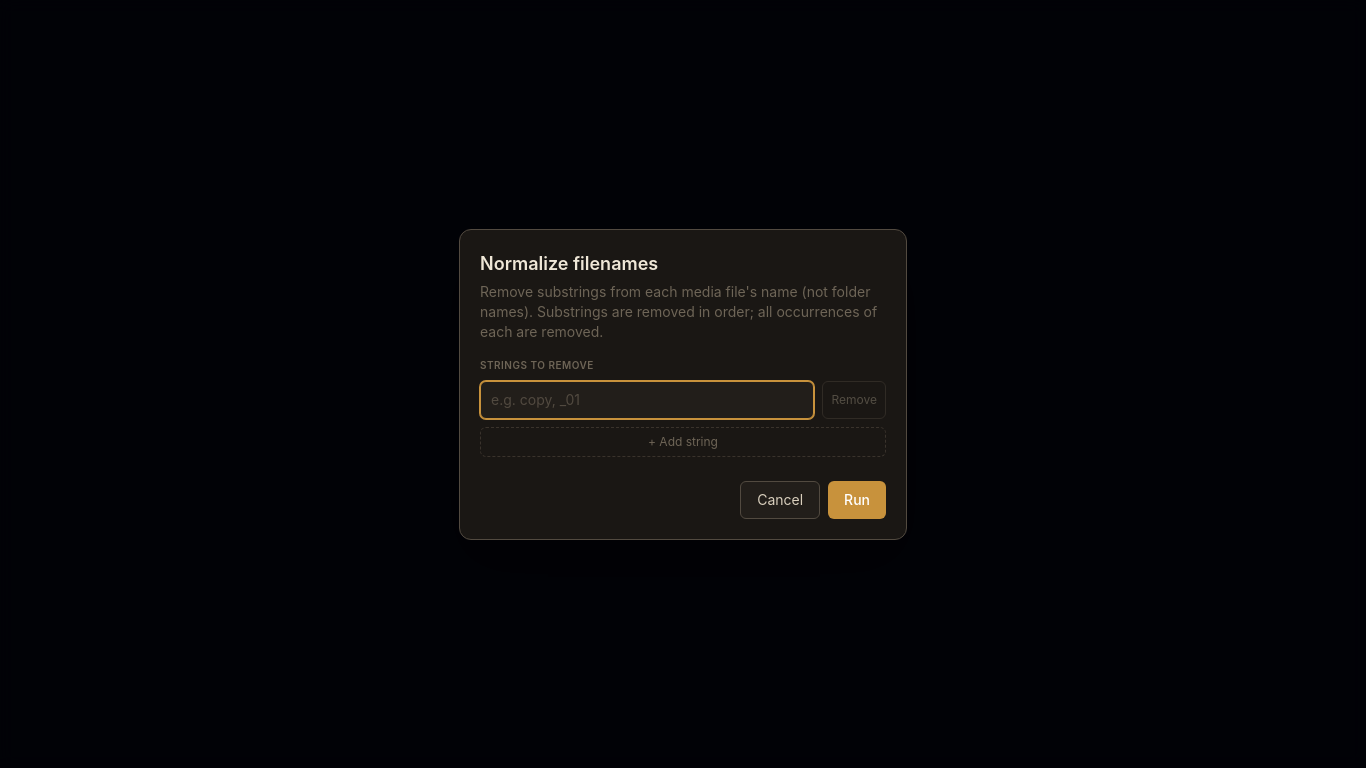
Scenario: NormalizeFilenamesModal › adds and removes string rows
The image size is (1366, 768).
Click the button "+ Add string" at {"x": 683, "y": 442}, box [480,426,886,456]
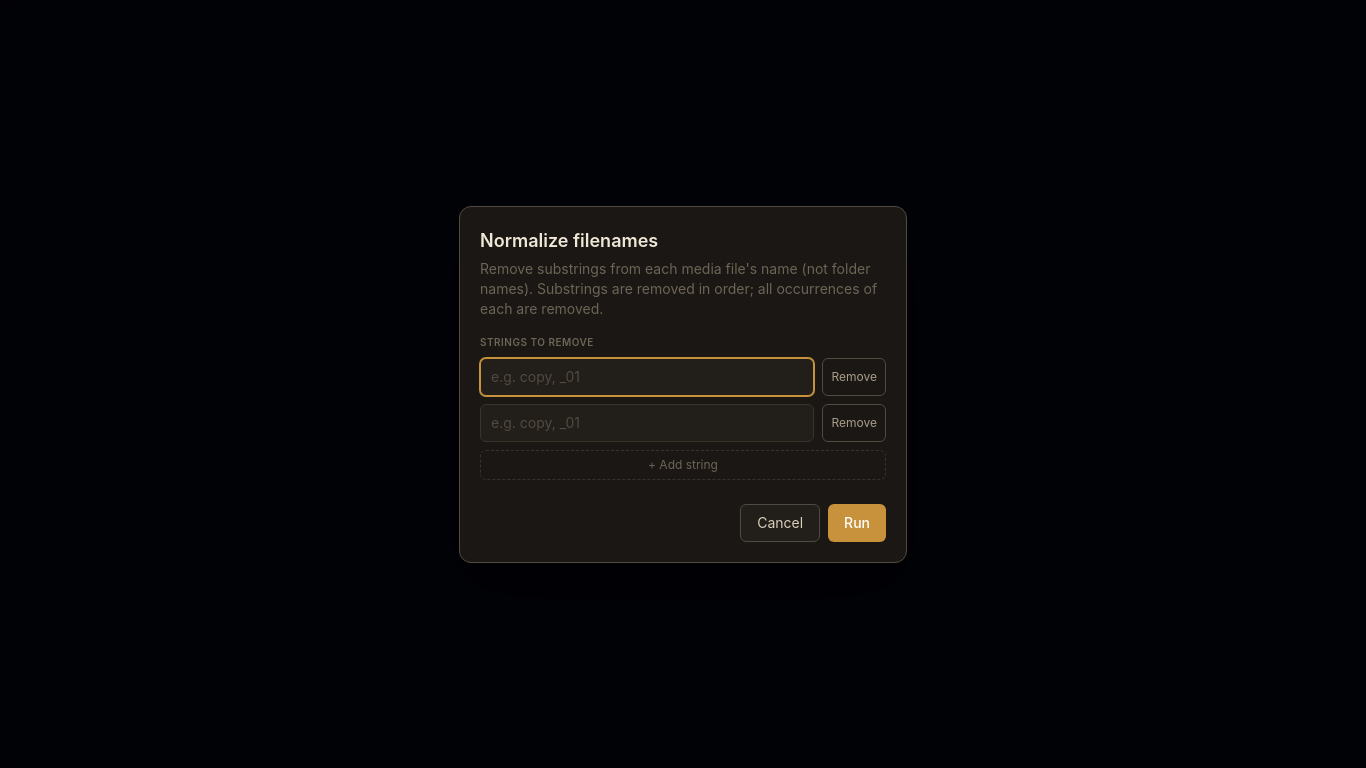
Expected: the number of fields with placeholder "e.g. copy, _01" is 2, [480,358,814,396]; [480,404,814,442]
Expected: the button with aria-label "Remove row" is enabled
Click the button with aria-label "Remove row" at {"x": 854, "y": 376}, box [822,358,886,396]
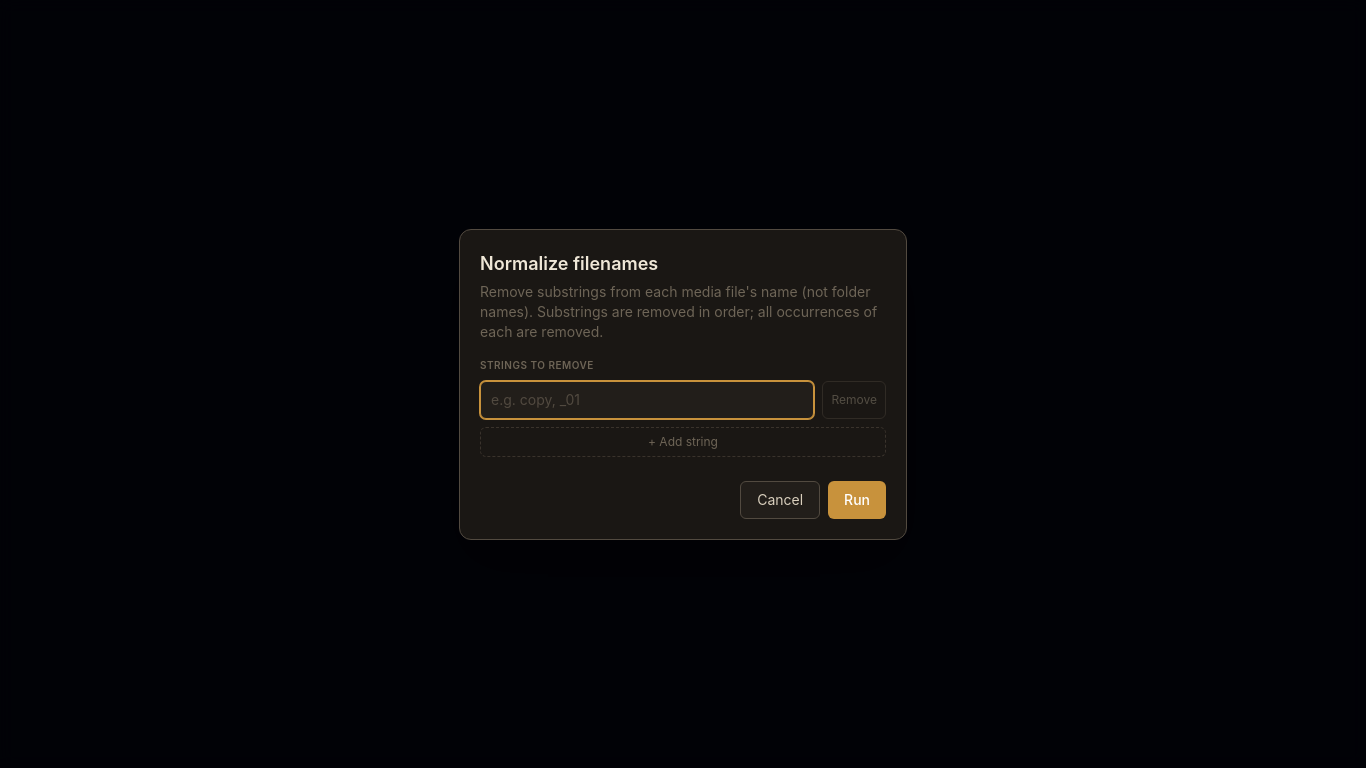
Expected: the number of fields with placeholder "e.g. copy, _01" is 1, [480,380,814,418]
